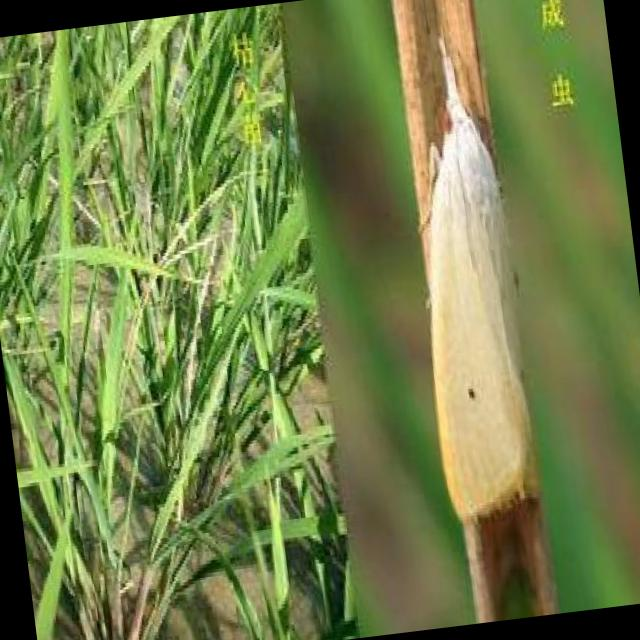stem-borer: (388, 29, 547, 528)
